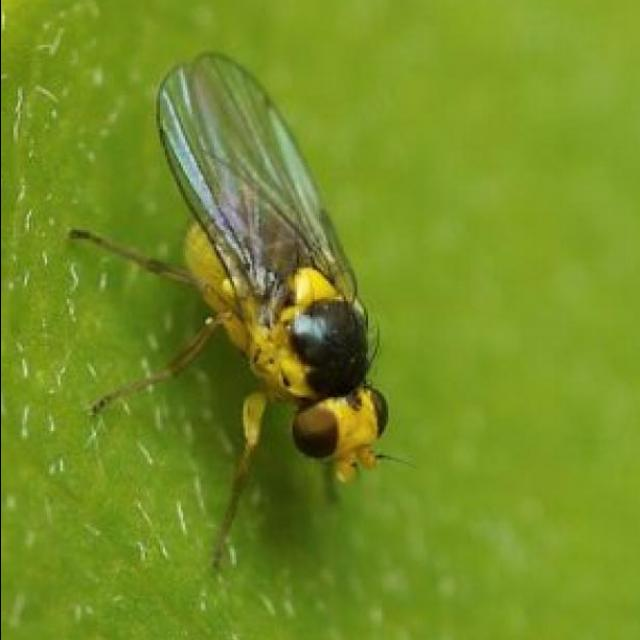Serpentine leafminer: (43, 43, 395, 575)
